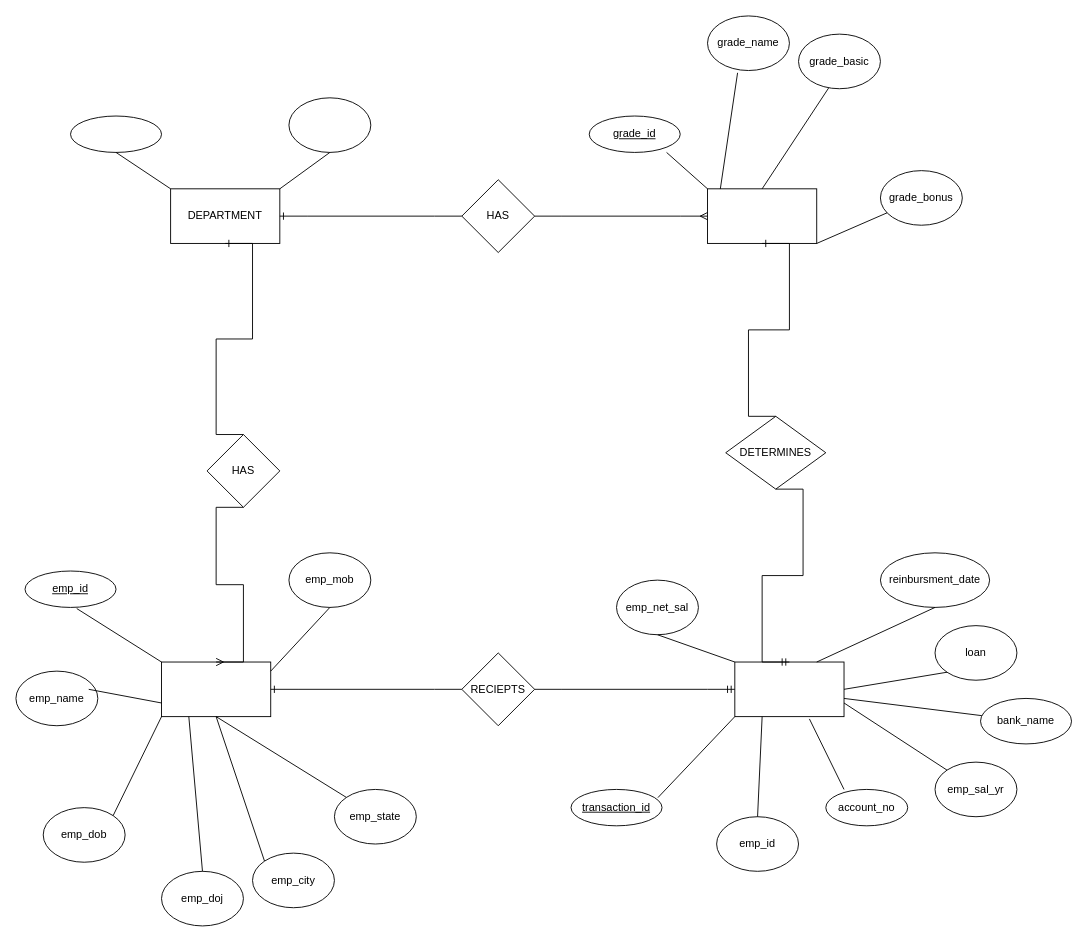
This 1087x942 diagram has some shape labels left out. The shapes that lost their labels are listed below. From the top down, each one's box as (x1, y1, x2, y2) in pixels, then its label:
(70, 115, 162, 152): dept_id
(288, 97, 371, 152): dept_name
(707, 188, 817, 243): PAY GRADE
(161, 661, 271, 717): EMPLOYEE
(734, 661, 844, 717): PAYROLL
